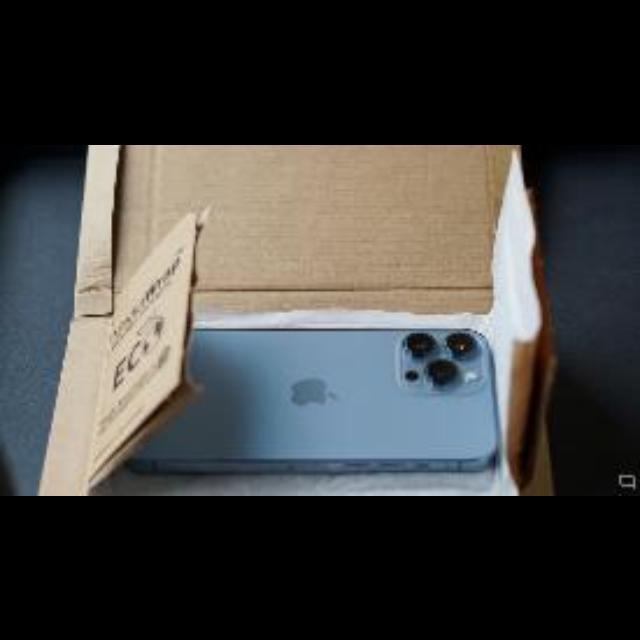Phone: (130, 328, 494, 468)
